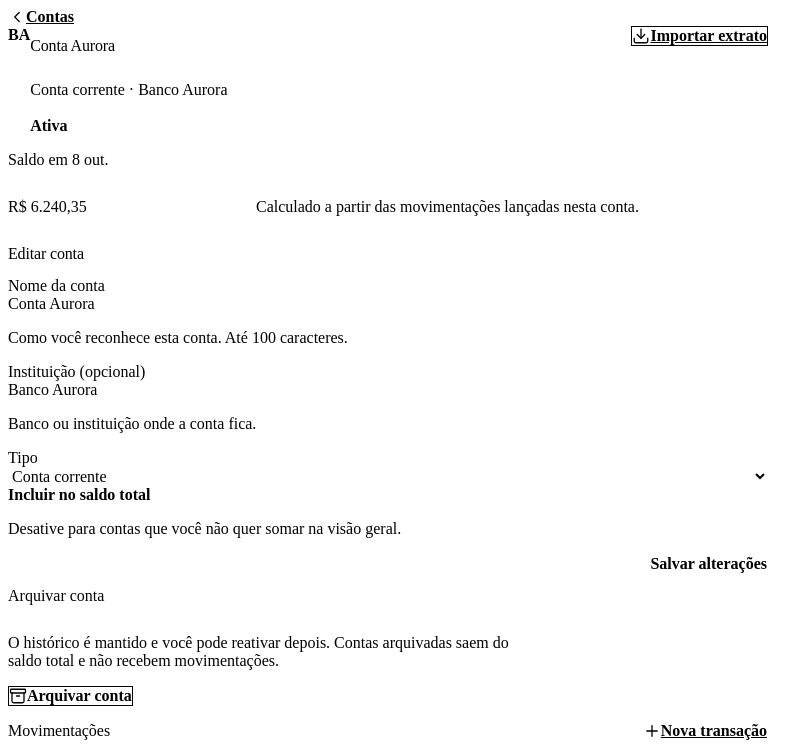
Test: /accounts/{id} — detalhe e edição › edição concorrente (CONFLICT): explica e oferece recarregar
Click the button "Salvar alterações" at [709, 564], box x1=649 y1=554 x2=768 y2=574
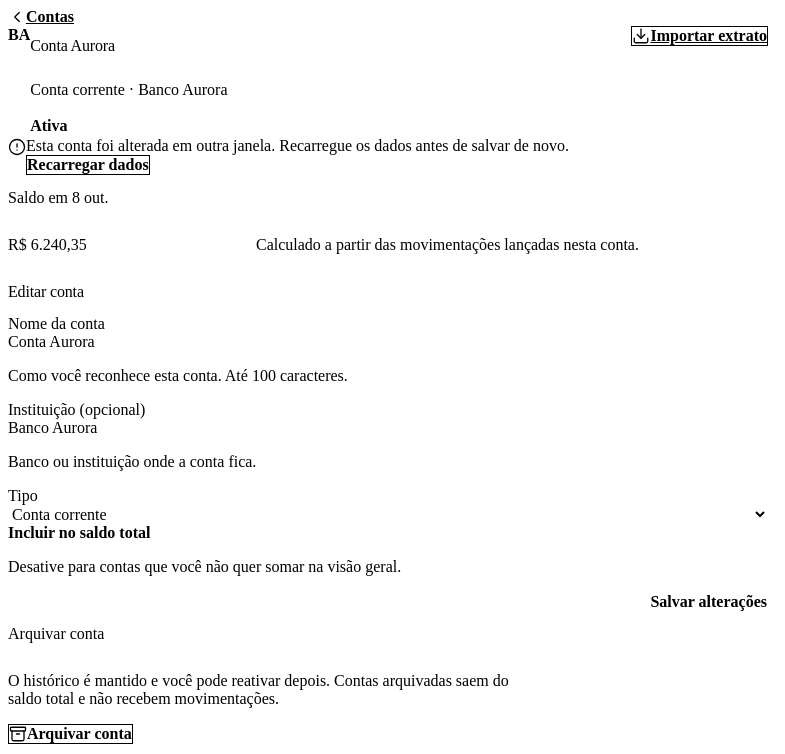
Expected: the button "Salvar alterações" is enabled, x1=649 y1=592 x2=768 y2=612
Now the message shows "alterada em outra janela", box x1=26 y1=137 x2=569 y2=154
Now the button "Recarregar dados" is shown, box x1=26 y1=155 x2=150 y2=175
